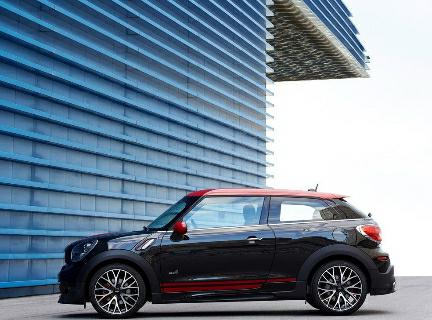MINI-JCWPACEMAN: (49, 184, 402, 317)
